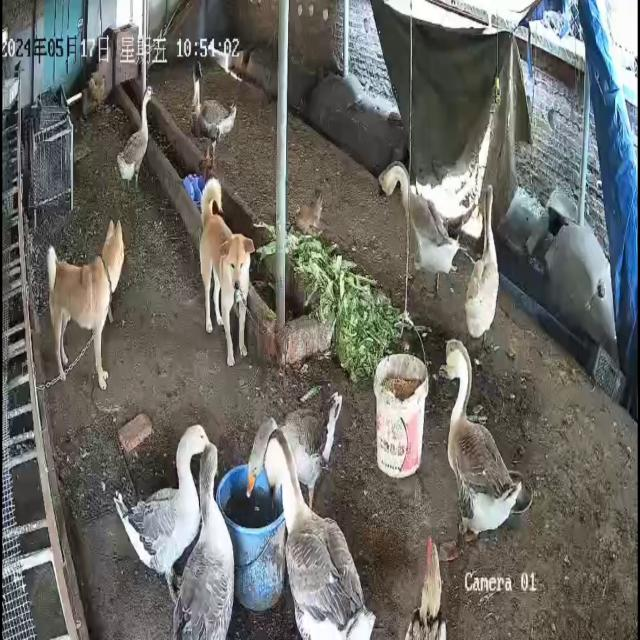dog: (47, 218, 126, 392), (200, 178, 257, 368)
